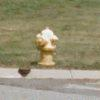Hydrant: (27, 21, 61, 73)
